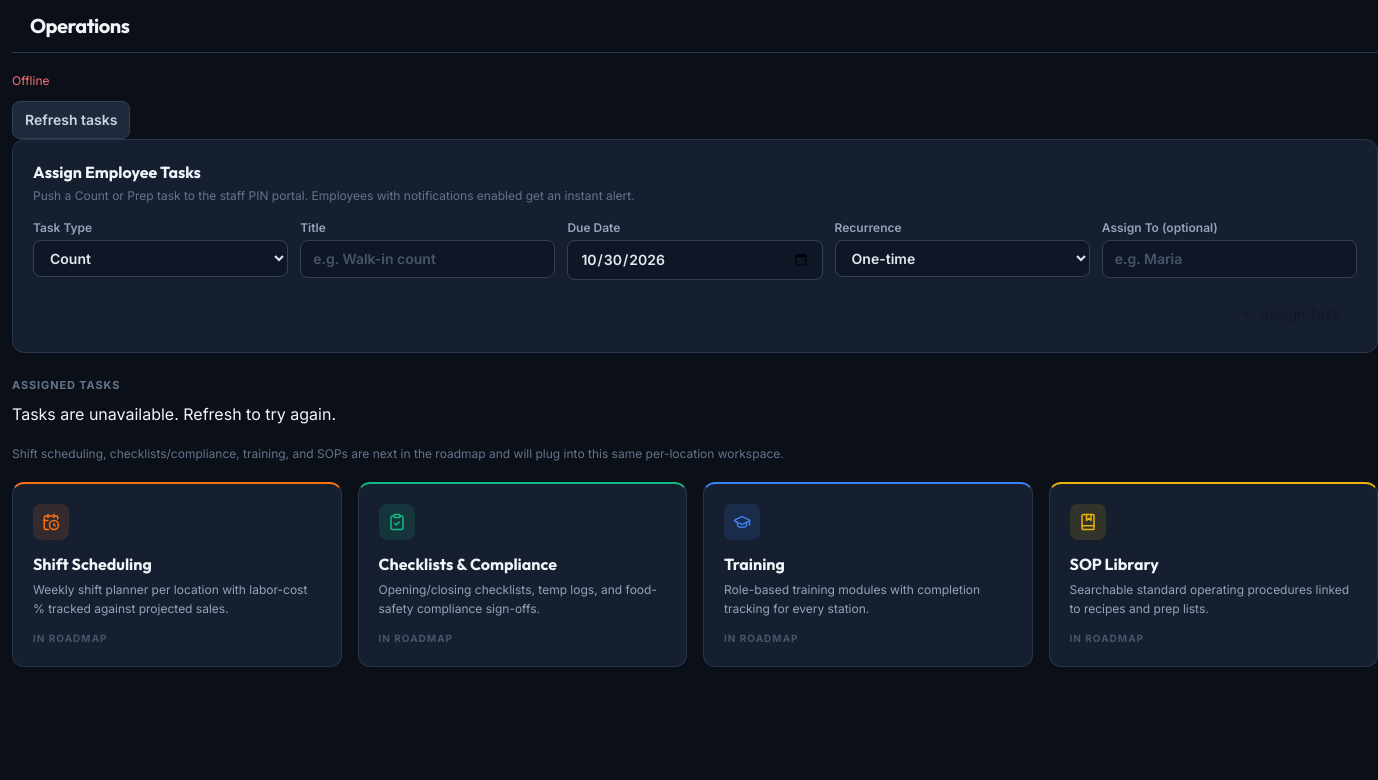
it: ordinary load failures disable assignment and preserve retry
Expected: the text "No tasks assigned" is not shown
Click the button with test id "tasks-refresh". click: {"x": 71, "y": 120}
box: [12,101,130,139]
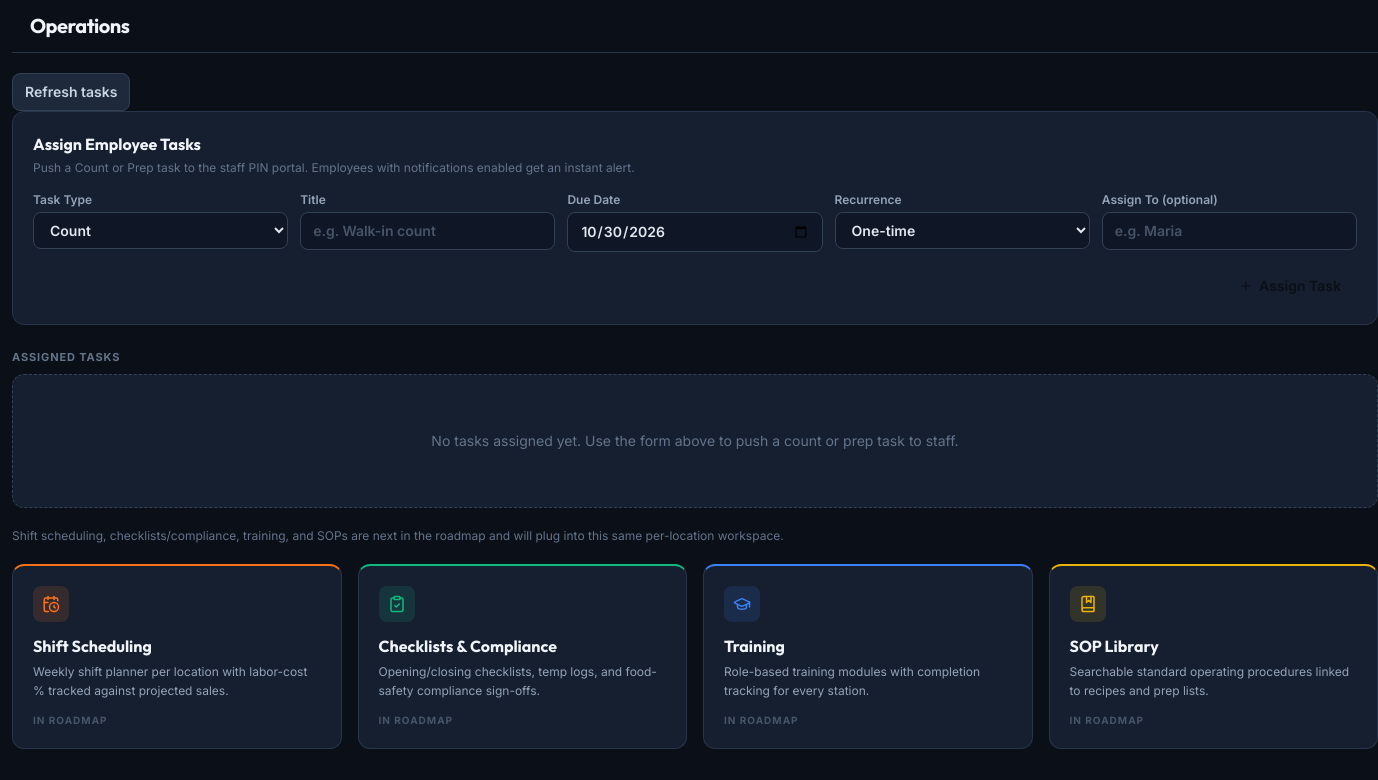
Now the message "Offline" is gone
Now the text "No tasks assigned" is shown, box [431,432,959,448]
Now the button with test id "assign-task-submit" is enabled, box [1223,268,1357,304]
